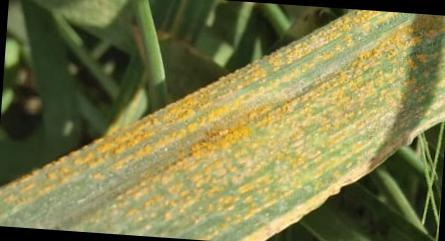Wheat: (66, 68, 320, 209), (270, 17, 411, 143)
